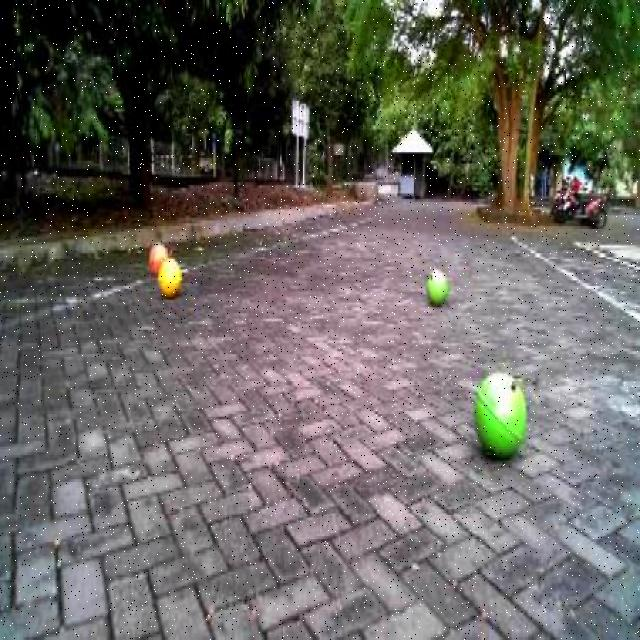buoy: (468, 358, 535, 466), (151, 248, 187, 305), (424, 258, 454, 311), (148, 225, 169, 272)
